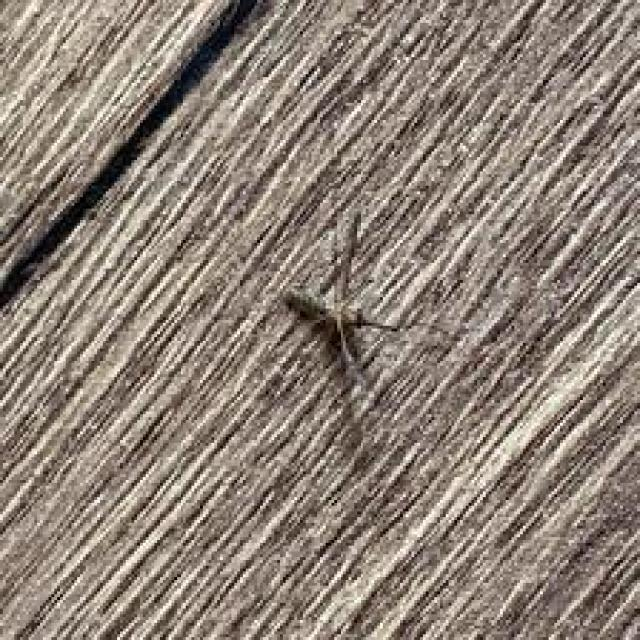Culex: (278, 208, 462, 388)
